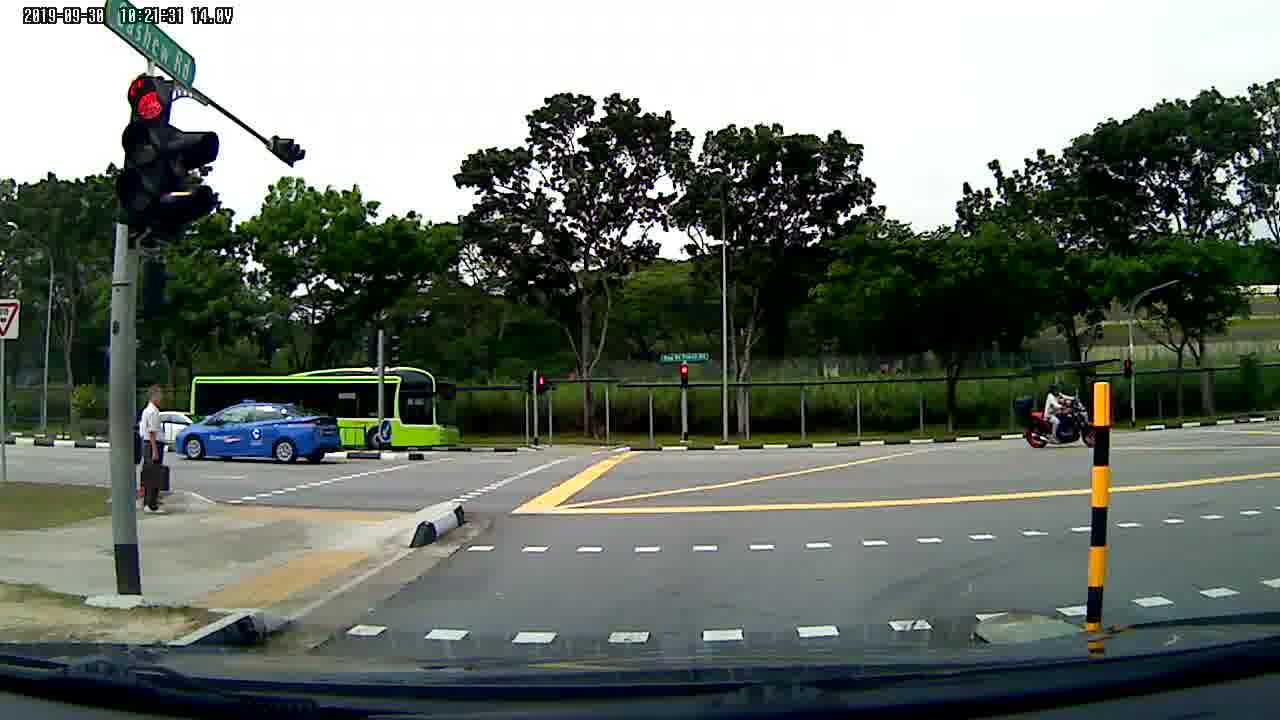bus: (189, 361, 459, 451)
car: (176, 399, 339, 469)
